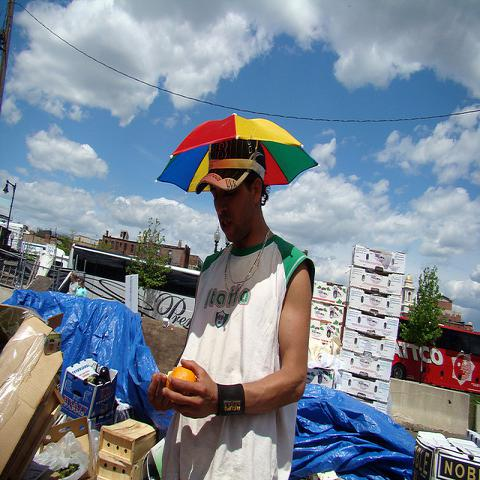bus: (68, 243, 201, 298), (392, 317, 480, 397)
